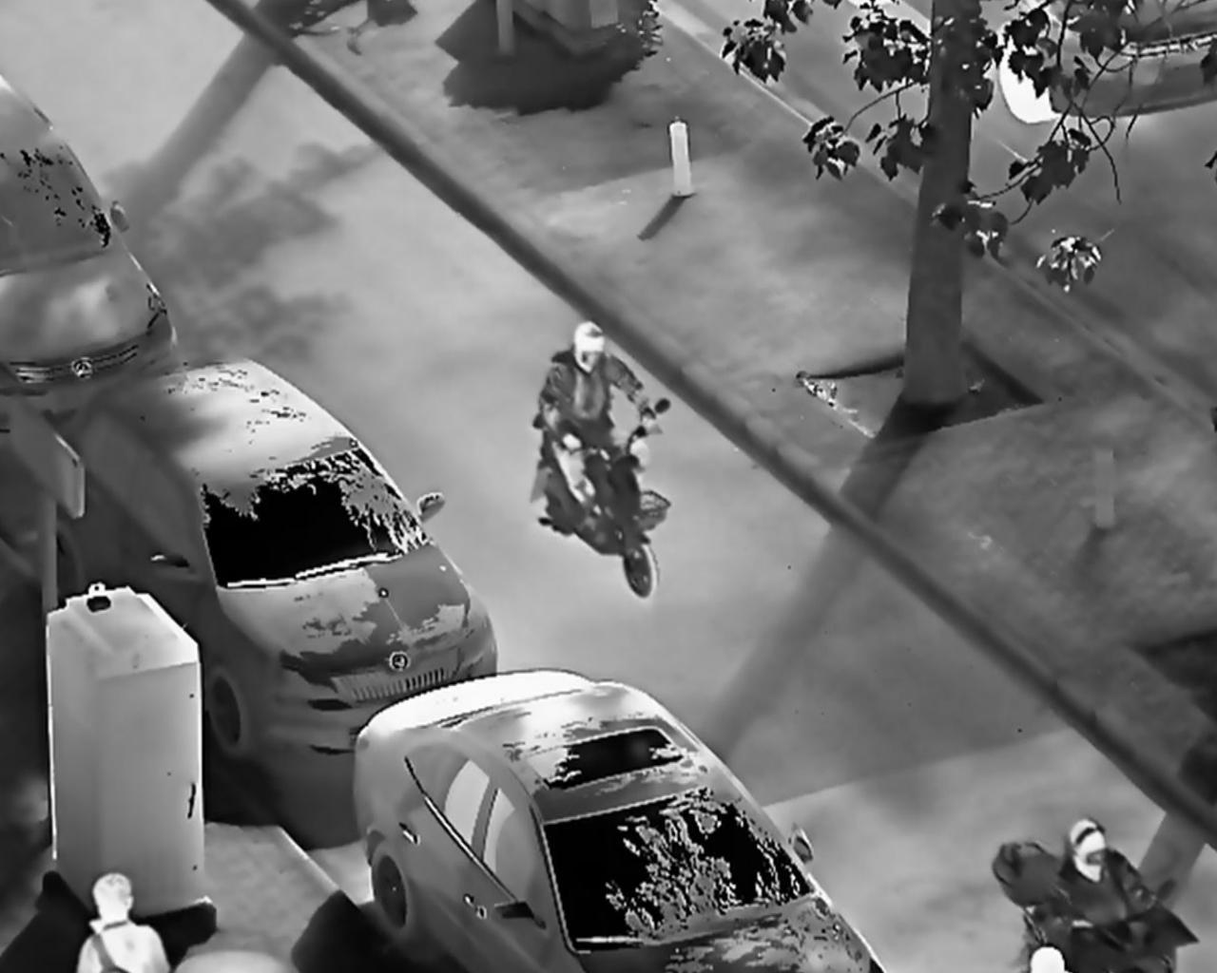person: (537, 317, 664, 534), (1030, 820, 1165, 963), (70, 874, 172, 973)
